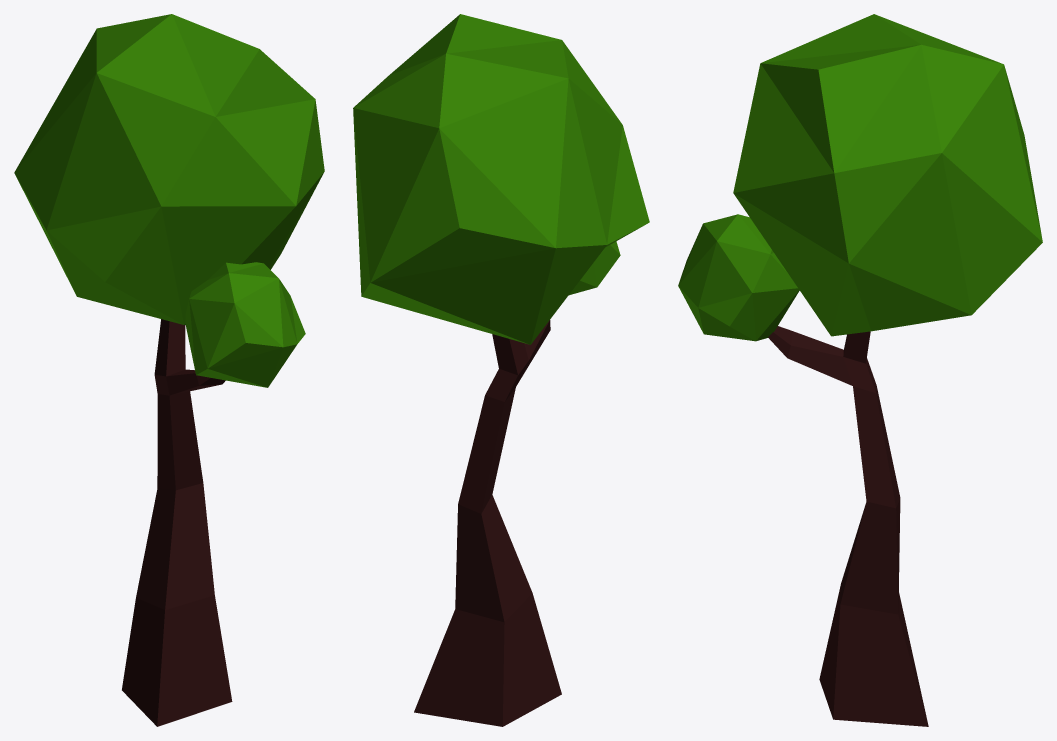
The model's file is treeTwo.FBX.
The picture shows the model from 3 angles, left to right: view 1: azimuth 30°, elevation 25°; view 2: azimuth 150°, elevation 25°; view 3: azimuth 270°, elevation 25°; orthographic projection.
Parts seen in each view (by area): view 1: Top, bottom04, Top009; view 2: Top, bottom04, Top009; view 3: Top, bottom04, Top009.
Boxes of the visible parts, <box> form: Top: <box>14,14,324,324</box>; bottom04: <box>122,319,232,726</box>; Top009: <box>185,262,305,387</box>; Top: <box>353,14,649,344</box>; bottom04: <box>414,320,561,726</box>; Top009: <box>569,241,620,295</box>; Top: <box>733,14,1042,336</box>; bottom04: <box>768,326,928,726</box>; Top009: <box>678,214,799,341</box>.
Size of the model in its own units: 51.17 by 124 by 61.56.
